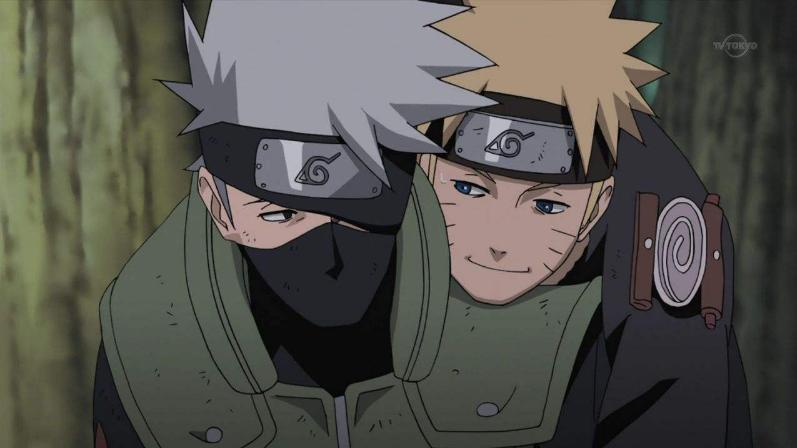kakashi: (186, 112, 418, 336)
naruto: (428, 78, 618, 306)
